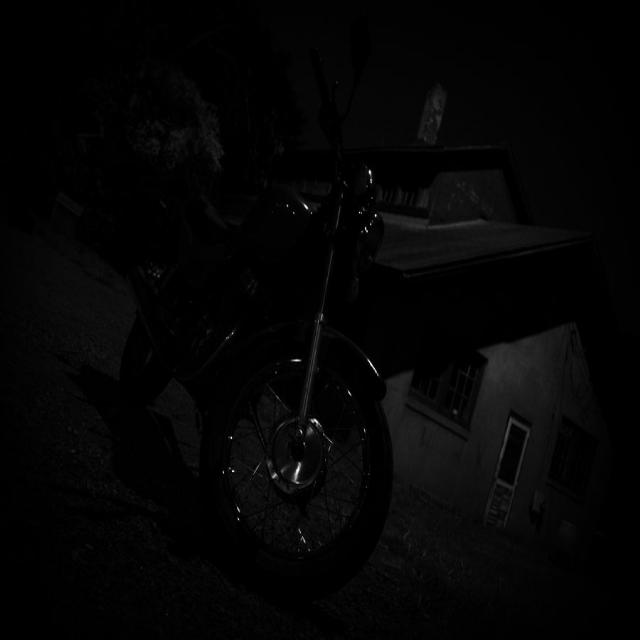Motorbike: (100, 94, 396, 628)
